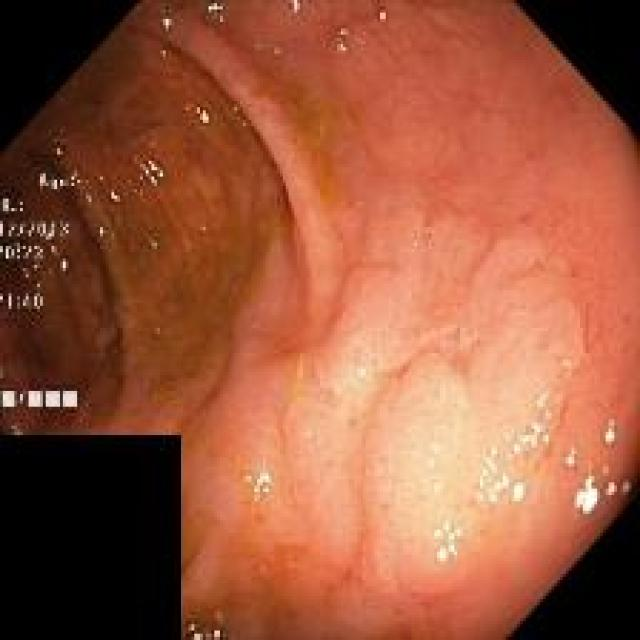Polyps: (270, 237, 586, 583)
